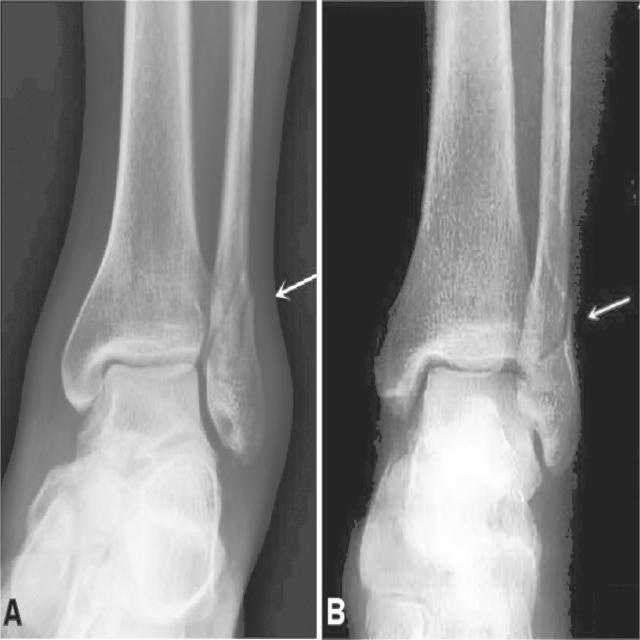Impact Fracture: (536, 297, 574, 369), (225, 274, 258, 349)
